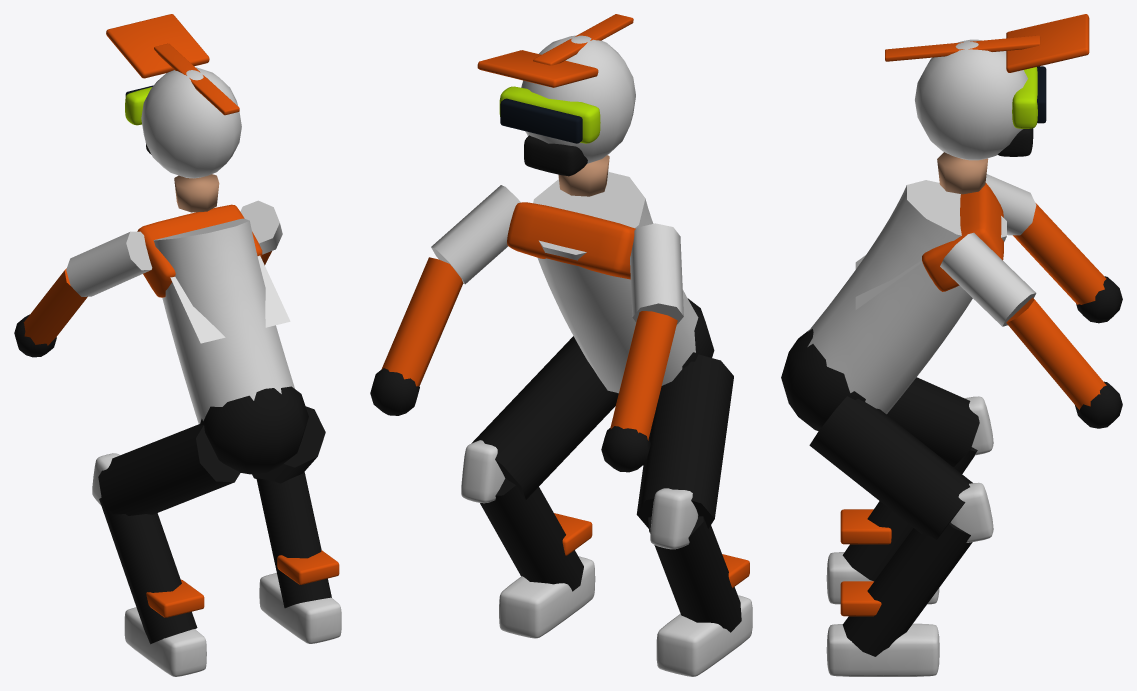
File: rider.glb
The picture shows the model from 3 angles, left to right: view 1: azimuth 30°, elevation 25°; view 2: azimuth 150°, elevation 25°; view 3: azimuth 270°, elevation 25°; orthographic projection. The views are drawn at different scales.
Parts seen in each view (by area): view 1: torso, leg_L, head, leg_R, arm_L, jersey_back, arm_R; view 2: leg_R, leg_L, torso, head, arm_L, arm_R; view 3: torso, leg_R, head, leg_L, arm_R, arm_L, jersey_back.
Boxes of the visible parts, <box> form: torso: <box>137,174,308,474</box>; leg_L: <box>92,424,240,676</box>; head: <box>106,14,241,178</box>; leg_R: <box>252,406,341,643</box>; arm_L: <box>14,231,152,357</box>; jersey_back: <box>170,255,290,343</box>; arm_R: <box>240,200,282,265</box>; leg_R: <box>461,336,618,638</box>; leg_L: <box>636,354,752,676</box>; torso: <box>507,155,714,394</box>; head: <box>477,14,635,176</box>; arm_L: <box>601,223,683,472</box>; arm_R: <box>370,185,520,415</box>; torso: <box>781,152,1006,430</box>; leg_R: <box>809,396,993,676</box>; head: <box>885,14,1089,160</box>; leg_L: <box>826,377,993,604</box>; arm_R: <box>940,232,1122,428</box>; arm_L: <box>985,174,1122,323</box>; jersey_back: <box>855,255,922,309</box>.
Bounding box in the file's own units: 1.05 × 2.35 × 1.2.
